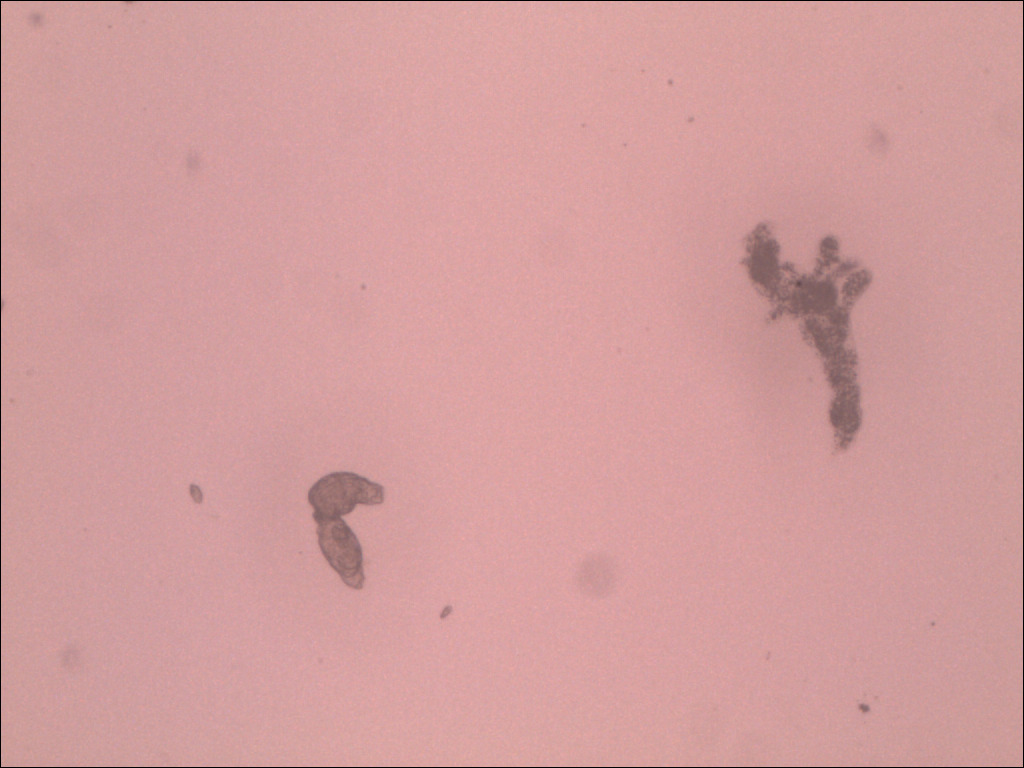amoeba: (716, 200, 930, 475)
